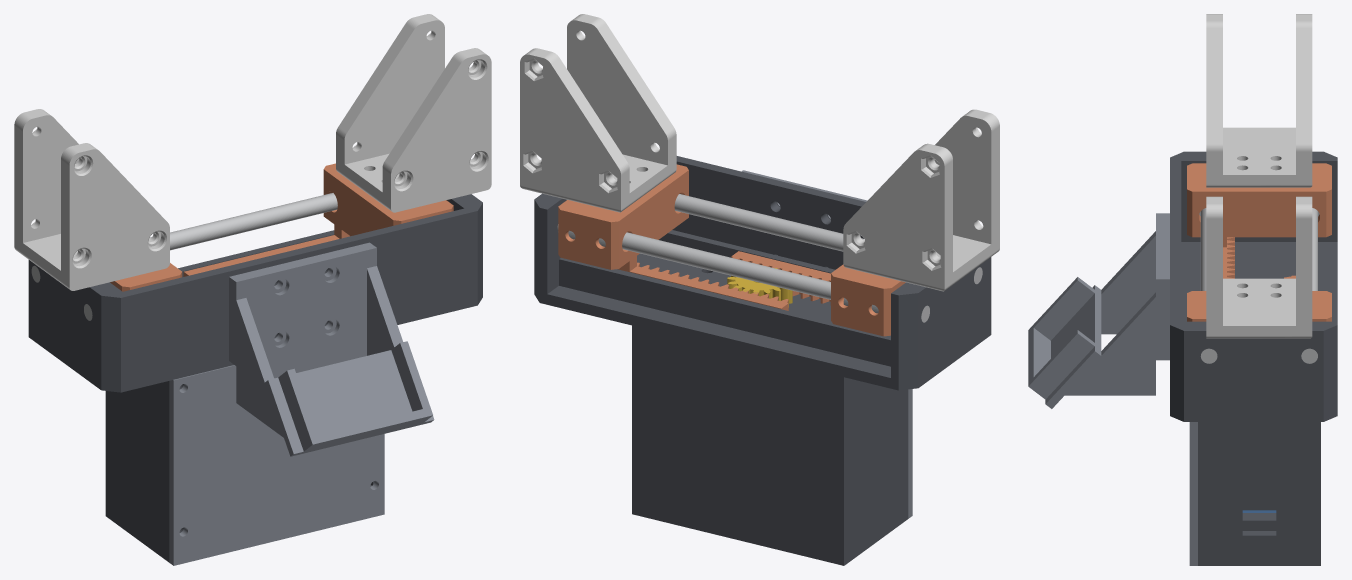
Rendered from openarm_unit_open.glb.
The picture shows the model from 3 angles, left to right: view 1: azimuth 30°, elevation 25°; view 2: azimuth 150°, elevation 25°; view 3: azimuth 270°, elevation 25°; orthographic projection. The views are drawn at different scales.
Parts seen in each view (by area): view 1: frame, cam_d405_cradle, servo_cradle_lid, tip_R, tip_L, servo_cradle, carriage_R, rod_bottom, carriage_L; view 2: servo_cradle, frame, tip_R, tip_L, carriage_R, carriage_L, rod_bottom, rod_top, pinion, servo_cradle_lid; view 3: frame, servo_cradle, cam_d405_cradle, tip_L, tip_R, carriage_L, servo_cradle_lid, carriage_R, rod_top, rod_bottom.
Part boxes in pixels (left/top/right/bottom): frame: left=28, top=194, right=482, bottom=392; cam_d405_cradle: left=229, top=242, right=434, bottom=456; servo_cradle_lid: left=169, top=334, right=384, bottom=565; tip_R: left=336, top=14, right=491, bottom=212; tip_L: left=14, top=109, right=169, bottom=290; servo_cradle: left=105, top=381, right=374, bottom=562; carriage_R: left=183, top=163, right=453, bottom=276; rod_bottom: left=31, top=193, right=337, bottom=282; carriage_L: left=110, top=263, right=182, bottom=291; servo_cradle: left=632, top=325, right=908, bottom=565; frame: left=534, top=156, right=991, bottom=390; tip_R: left=520, top=14, right=676, bottom=212; tip_L: left=843, top=109, right=999, bottom=291; carriage_R: left=558, top=164, right=788, bottom=310; carriage_L: left=731, top=251, right=905, bottom=336; rod_bottom: left=557, top=224, right=929, bottom=322; rod_top: left=674, top=194, right=982, bottom=284; pinion: left=727, top=268, right=792, bottom=307; servo_cradle_lid: left=908, top=389, right=912, bottom=518; frame: left=1170, top=151, right=1337, bottom=421; servo_cradle: left=1198, top=422, right=1320, bottom=565; cam_d405_cradle: left=1028, top=213, right=1169, bottom=408; tip_L: left=1206, top=14, right=1312, bottom=187; tip_R: left=1206, top=196, right=1312, bottom=338; carriage_L: left=1187, top=163, right=1331, bottom=278; servo_cradle_lid: left=1189, top=422, right=1197, bottom=565; carriage_R: left=1187, top=275, right=1331, bottom=321; rod_top: left=1200, top=208, right=1217, bottom=363; rod_bottom: left=1301, top=208, right=1317, bottom=363.
Size of the model in its own units: 0.168 by 0.1627 by 0.1108.
